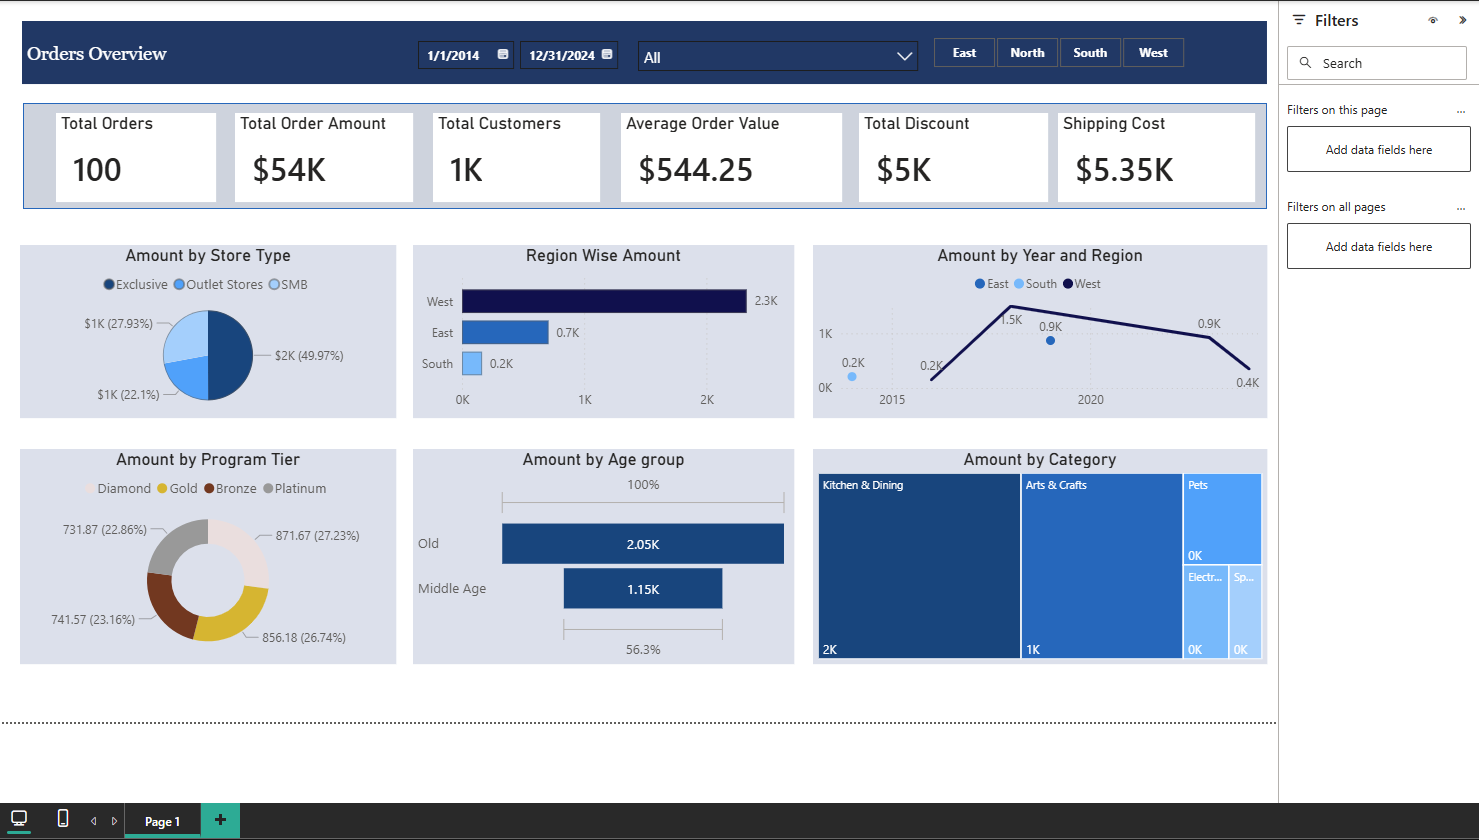

The dashboard page shown, as its layout file describes it:
{"tool":"powerbi","page":{"name":"Page 1","canvas":[1280,720],"ordinal":0},"visuals":[{"type":"textbox","box":[25,20,1244,63],"z":0},{"type":"shape","box":[26,101.9,1243,105.9],"z":1000},{"type":"cardVisual","title":"Total Orders","fields":{"Data":["Measure.Total orders"]},"box":[59,111.9,159.9,88.9],"z":2000},{"type":"cardVisual","title":"Total Order Amount","fields":{"Data":["Measure.Total order amount"]},"box":[237.8,111.9,177.9,88.9],"z":3000},{"type":"cardVisual","title":"Total Customers","fields":{"Data":["Measure.Total customers"]},"box":[435.7,111.9,166.9,88.9],"z":4000},{"type":"cardVisual","title":"Average Order Value","fields":{"Data":["Measure.Avg Order value"]},"box":[623.5,111.9,220.8,88.9],"z":5000},{"type":"cardVisual","title":"Total Discount","fields":{"Data":["Measure.total discount"]},"box":[861.3,111.9,188.9,88.9],"z":6000},{"type":"cardVisual","title":"Shipping Cost","fields":{"Data":["Measure.shipping amount"]},"box":[1060.2,111.9,196.8,88.9],"z":7000},{"type":"pieChart","title":"Amount by Store Type","fields":{"Y":["Sum(FACTORDERS.TOTALAMOUNT)"],"Series":["DIMSTORE.STORETYPE"]},"box":[23,243.8,375.7,172.9],"z":8000},{"type":"lineChart","title":"Amount by Year and Region","fields":{"Category":["DIMDATE.YEAR"],"Series":["DIMSTORE.REGIONS"],"Y":["Measure.Total order amount"]},"box":[815.4,243.8,453.6,172.9],"z":9000},{"type":"barChart","title":"Region Wise Amount","fields":{"Y":["Sum(FACTORDERS.TOTALAMOUNT)"],"Category":["DIMSTORE.REGIONS"]},"box":[415.7,243.8,380.7,172.9],"z":10000},{"type":"donutChart","title":"Amount by Program Tier","fields":{"Category":["DIMLOYALTYPROGRAM.PROGRAMTIER"],"Y":["Sum(FACTORDERS.TOTALAMOUNT)"]},"box":[23,447.7,375.7,214.8],"z":11000},{"type":"funnel","title":"Amount by Age group","fields":{"Category":["DIMCUSTOMER.Age dis"],"Y":["Sum(FACTORDERS.TOTALAMOUNT)"]},"box":[415.7,447.7,380.7,214.8],"z":12000},{"type":"treemap","title":"Amount by Category","fields":{"Values":["Measure.Total order amount"],"Group":["DIMPRODUCT.CATEGORY"]},"box":[815.4,447.7,453.6,214.8],"z":13000},{"type":"slicer","fields":{"Values":["DIMSTORE.REGIONS"]},"box":[910.3,30,299.8,43],"z":14000},{"type":"slicer","fields":{"Values":["DIMPRODUCT.CATEGORY"]},"box":[630.5,30,299.8,43],"z":15000},{"type":"slicer","fields":{"Values":["DIMDATE.DATE"]},"box":[407.7,30,222.8,43],"z":16000}]}

Visuals, with their boxes on the page's 1280x720 design canvas (x1, y1, x2, y2). These are canvas units, not pixel positions in the 1479x840 screenshot, which may show the page scaled, cropped or inside an application window:
textbox: 25:20:1269:83
shape: 26:102:1269:208
"Total Orders" cardVisual: 59:112:219:201
"Total Order Amount" cardVisual: 238:112:416:201
"Total Customers" cardVisual: 436:112:603:201
"Average Order Value" cardVisual: 624:112:844:201
"Total Discount" cardVisual: 861:112:1050:201
"Shipping Cost" cardVisual: 1060:112:1257:201
"Amount by Store Type" pieChart: 23:244:399:417
"Amount by Year and Region" lineChart: 815:244:1269:417
"Region Wise Amount" barChart: 416:244:796:417
"Amount by Program Tier" donutChart: 23:448:399:662
"Amount by Age group" funnel: 416:448:796:662
"Amount by Category" treemap: 815:448:1269:662
slicer - DIMSTORE.REGIONS: 910:30:1210:73
slicer - DIMPRODUCT.CATEGORY: 630:30:930:73
slicer - DIMDATE.DATE: 408:30:630:73
